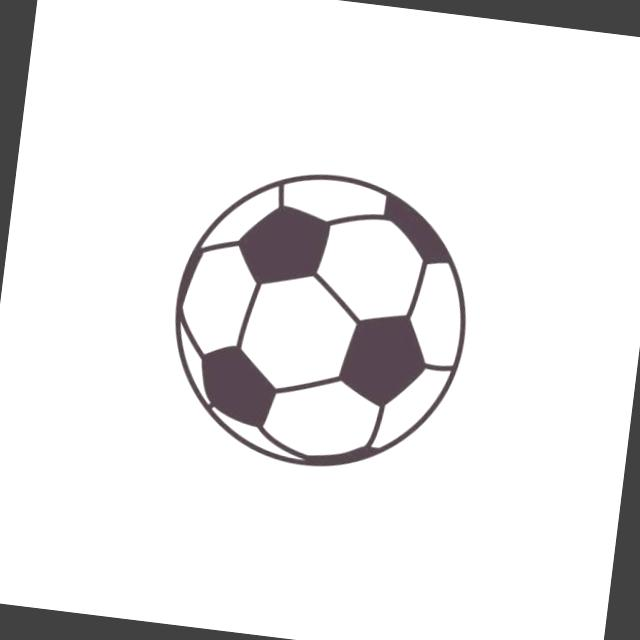ball: (148, 148, 491, 488)
